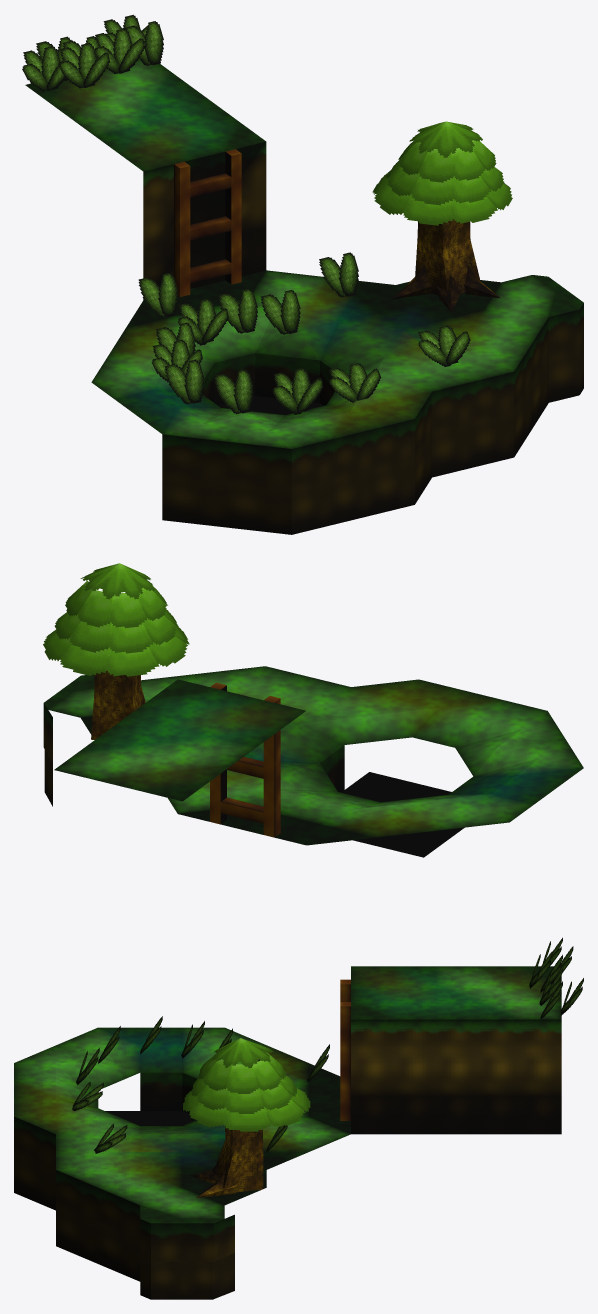
The model's file is simple test.gltf.
3 views of the same model, one above another, from view 1: azimuth 30°, elevation 25°; view 2: azimuth 150°, elevation 25°; view 3: azimuth 270°, elevation 25° (orthographic). The views are drawn at different scales.
Bounding box in the file's own units: 22 × 11.72 × 27.06.
1 material, 1 textured.
